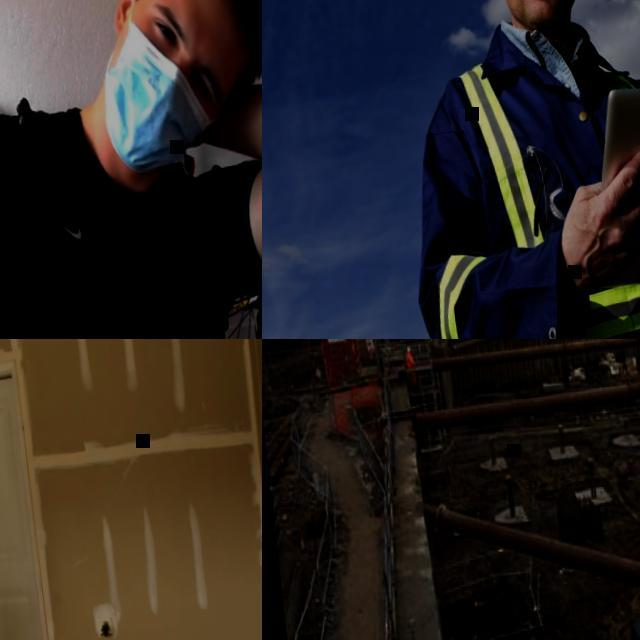helmet: (405, 346, 410, 350)
vest: (411, 39, 640, 339), (402, 344, 417, 391), (404, 352, 412, 368)
